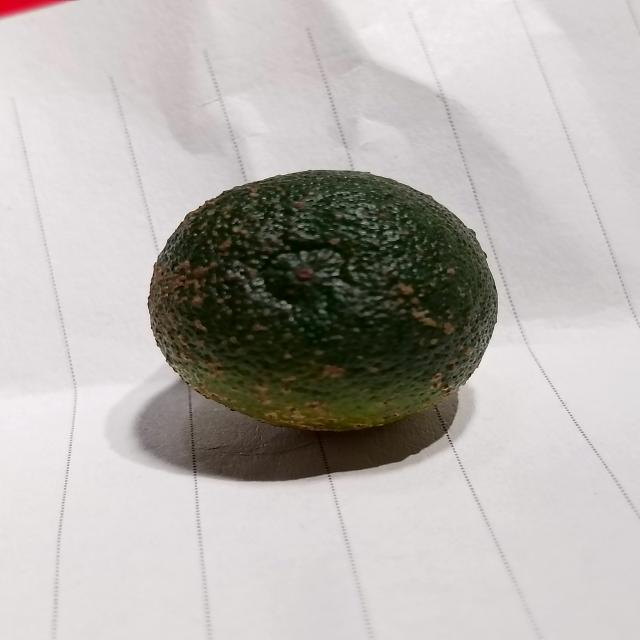scab: (154, 172, 492, 426)
